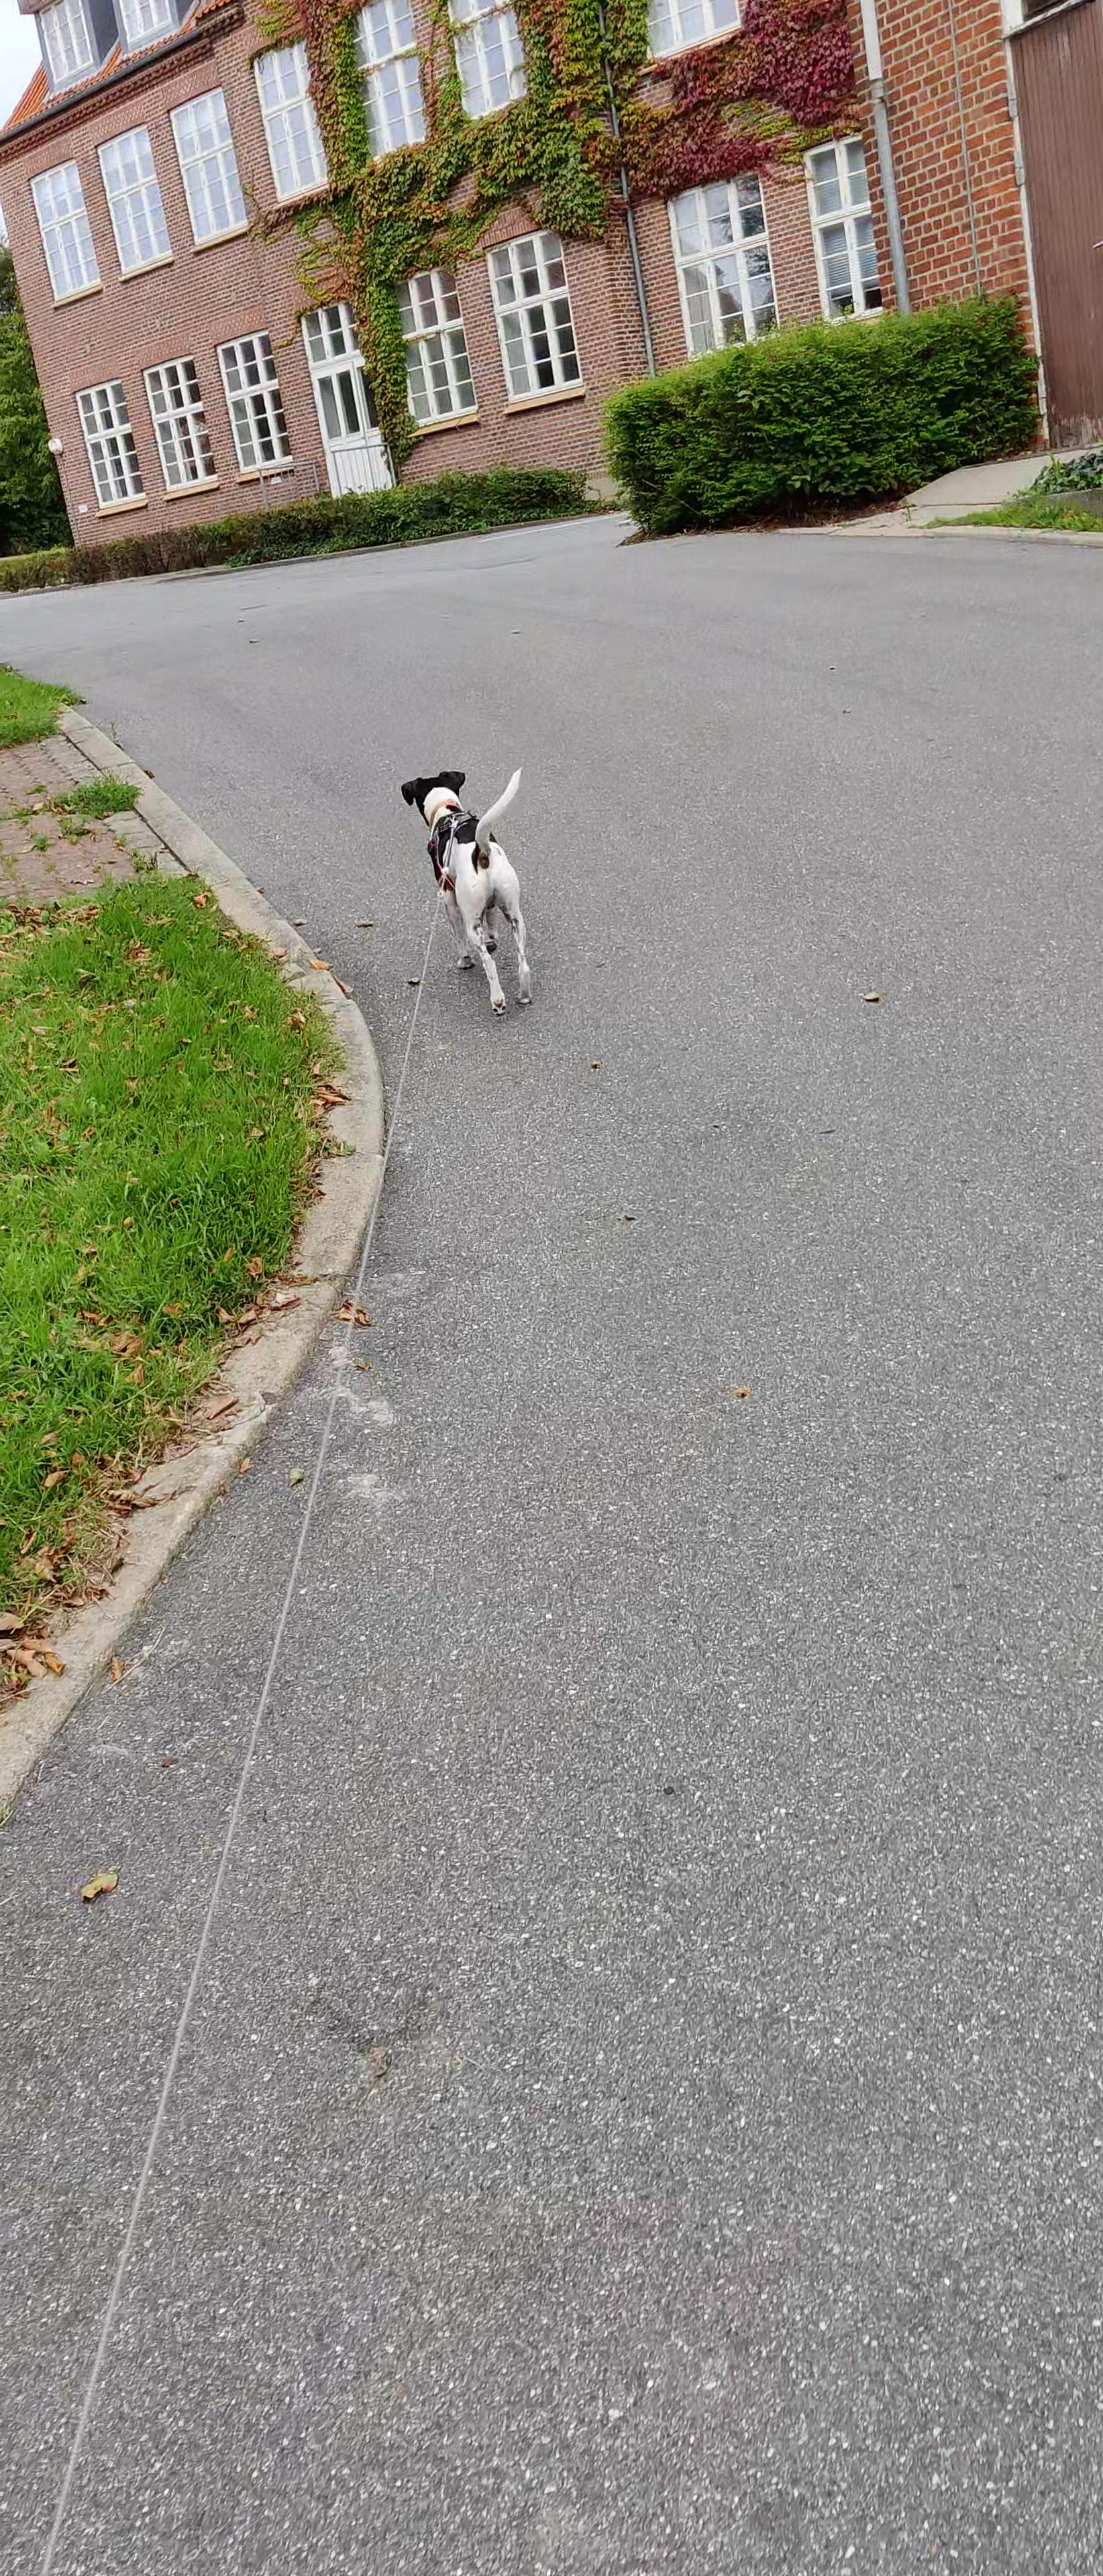Dog: (388, 752, 552, 1022)
